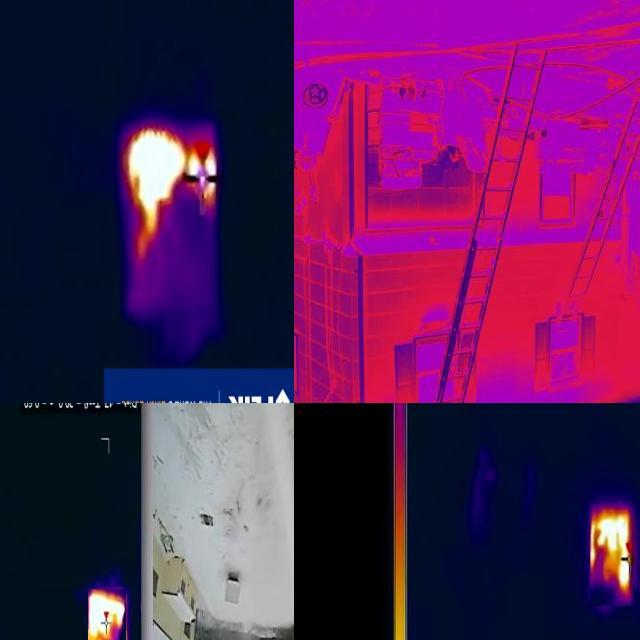fire: (123, 120, 218, 247), (591, 505, 635, 607), (89, 590, 127, 640)
